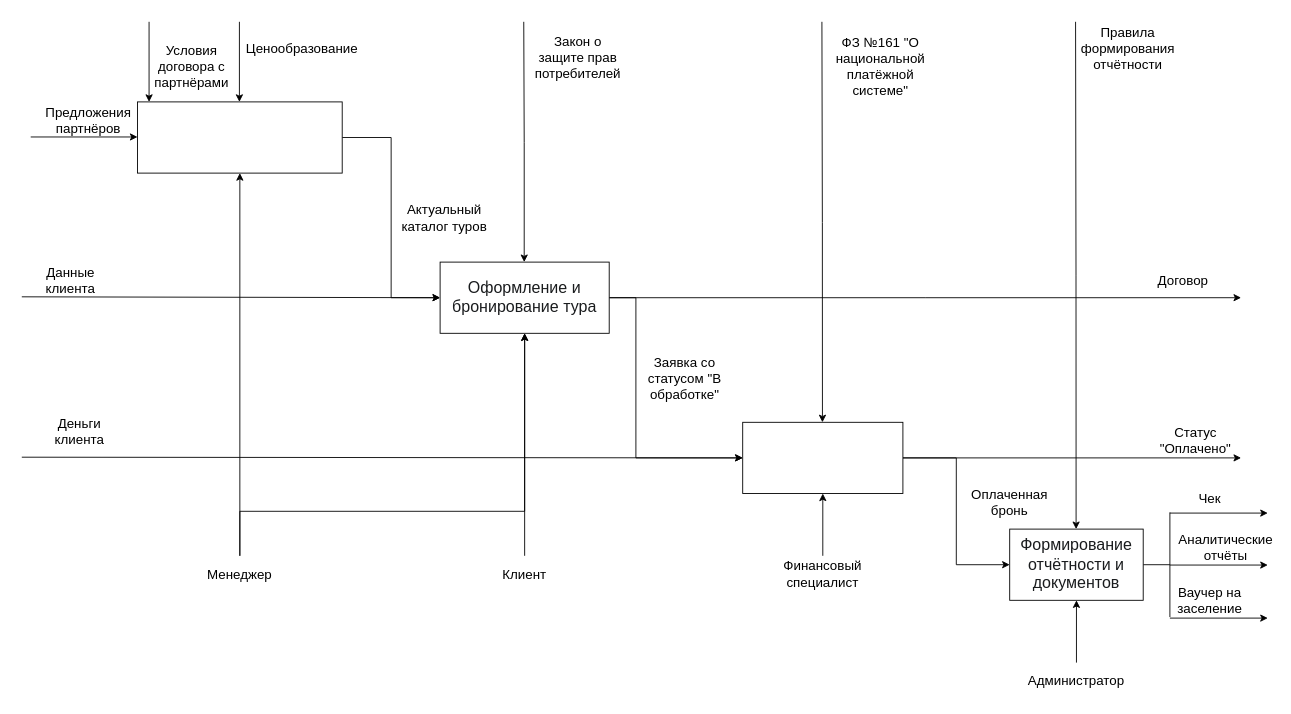
Some shapes in this 1291 by 714 pixel diagram are drawn without their labels. The shapes that lost their labels are listed below. From the top down, each one's box as (x1, y1, x2, y2) in pixels, then its label:
(137, 101, 342, 173): Управление справочными данными
(742, 421, 903, 494): Проведение оплаты
